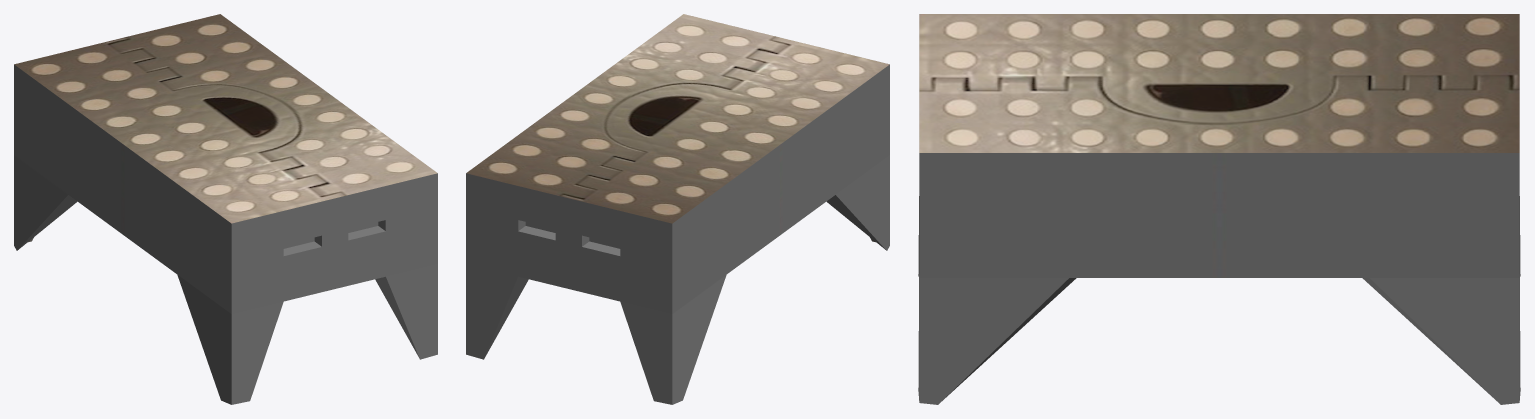
The model's file is step.fbx.
The picture shows the model from 3 angles, left to right: view 1: azimuth 30°, elevation 25°; view 2: azimuth 150°, elevation 25°; view 3: azimuth 270°, elevation 25°; orthographic projection. The views are drawn at different scales.
Parts seen in each view (by area): view 1: Cube; view 2: Cube; view 3: Cube.
Part boxes in pixels (left/top/right/bottom): Cube: left=14, top=14, right=437, bottom=404; Cube: left=466, top=14, right=889, bottom=404; Cube: left=918, top=14, right=1520, bottom=404.
Size of the model in its own units: 247 by 200 by 436.
